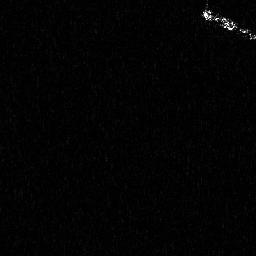ship: (200, 7, 256, 43)
